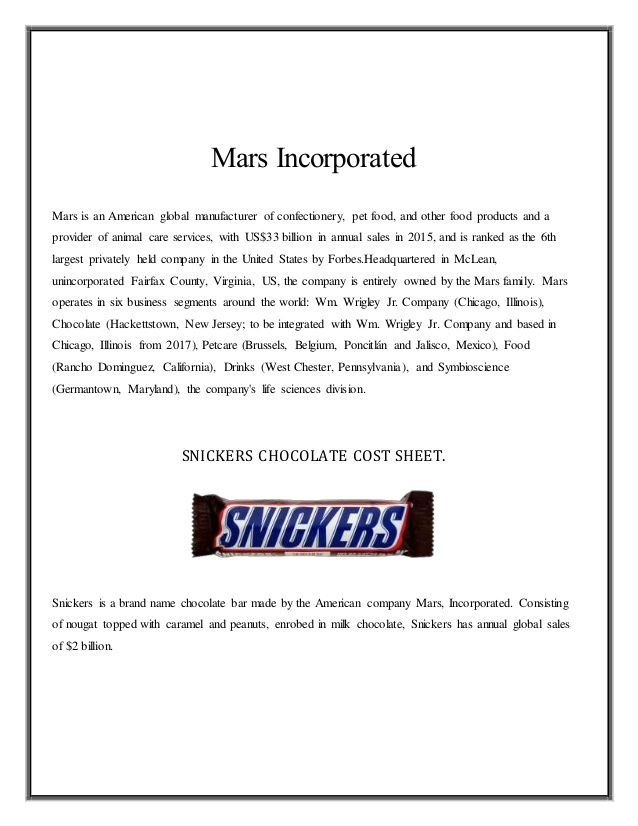snickers: (219, 501, 407, 547)
